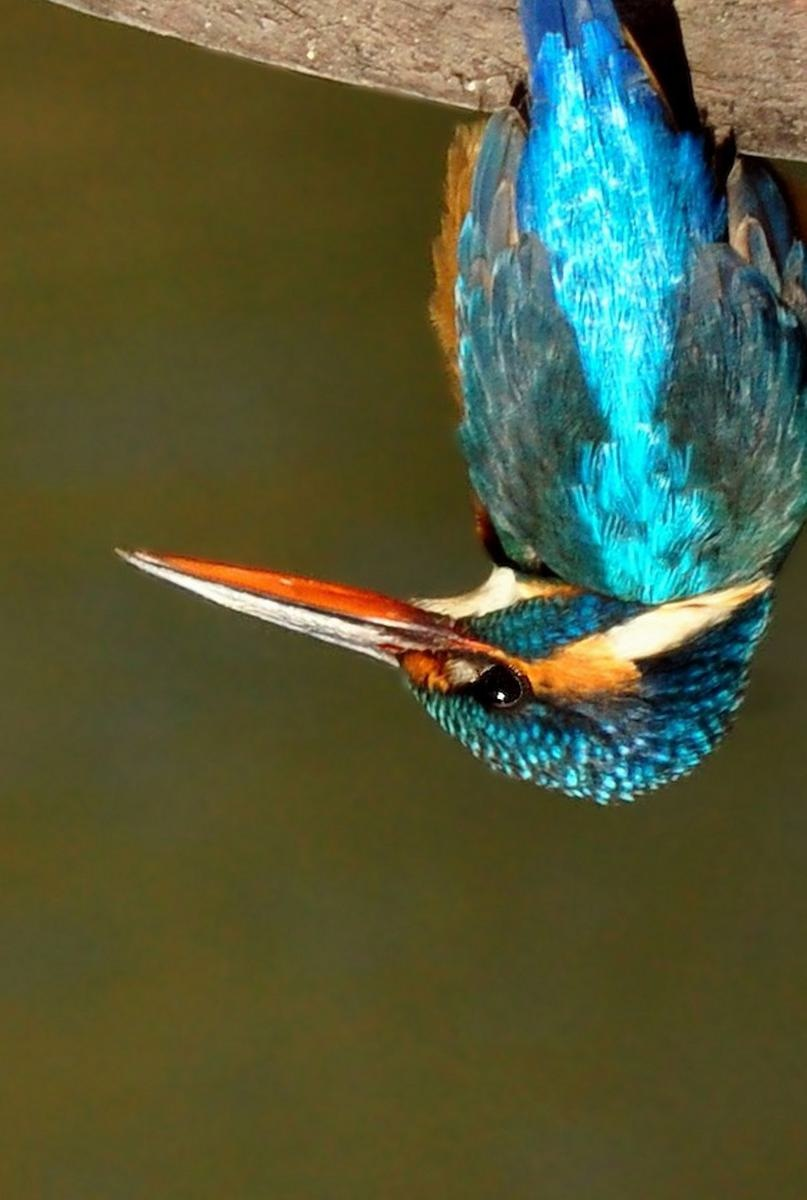kingfisher: (139, 9, 807, 808)
